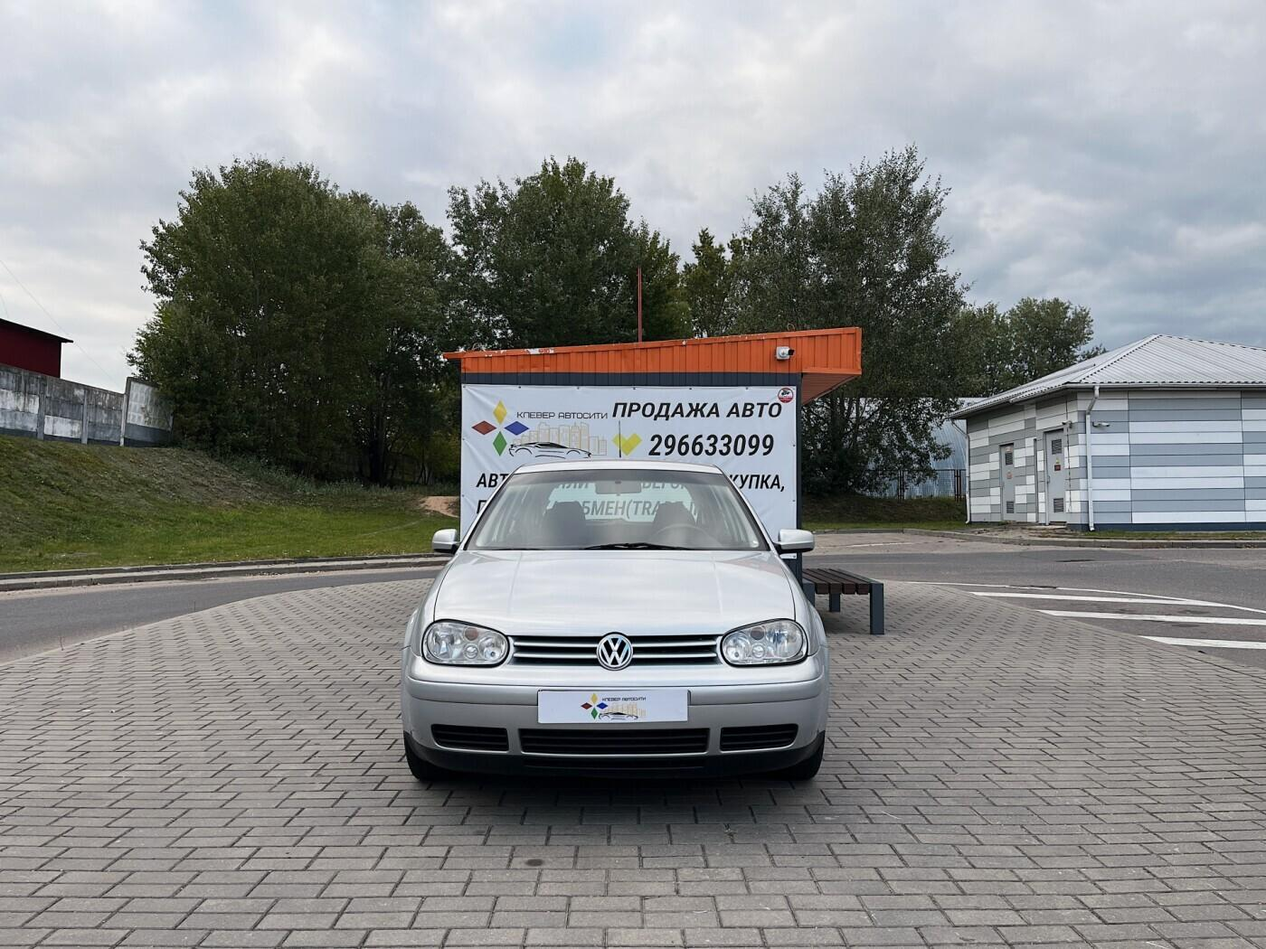Golf_1997-2006: (394, 458, 830, 798)
